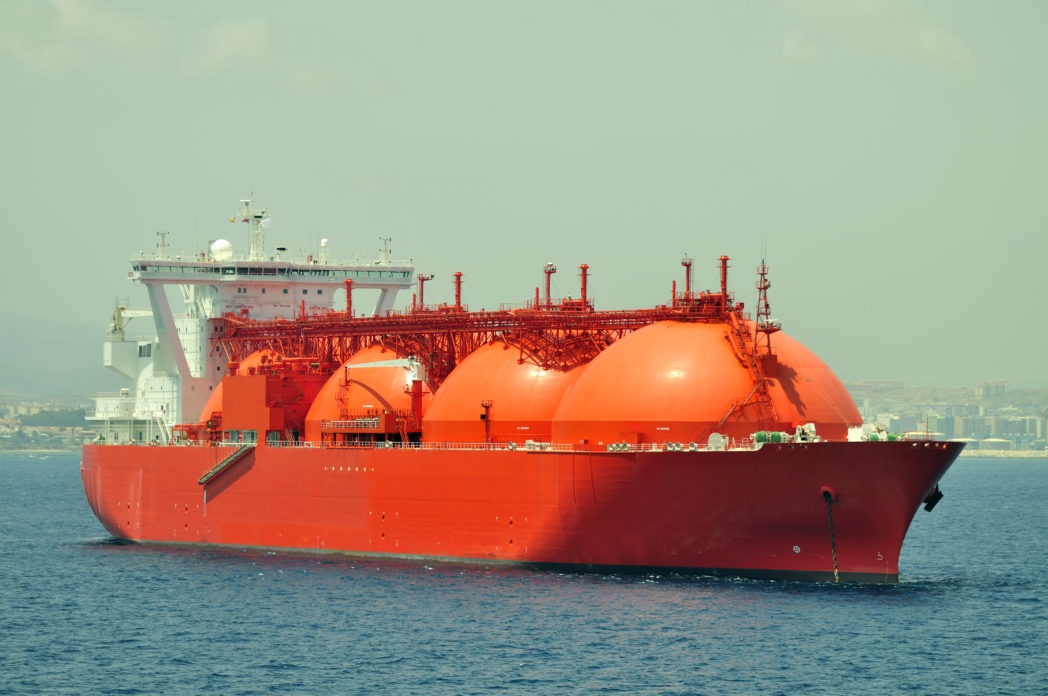Cargoship: (69, 239, 975, 582)
